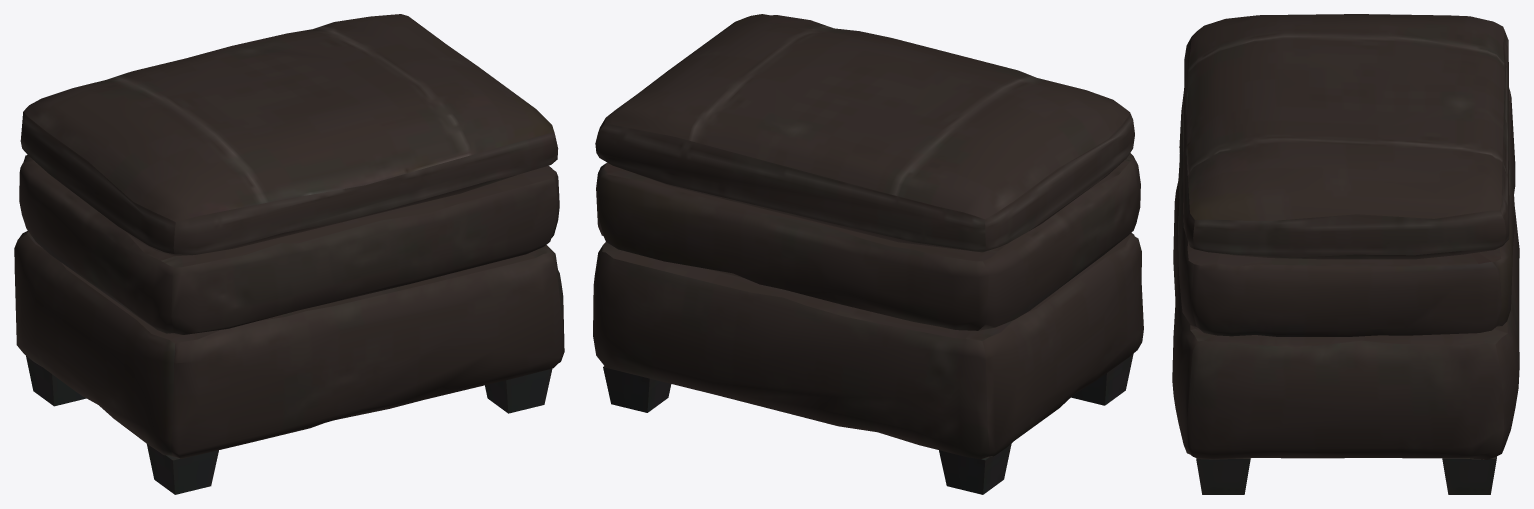
Rendered from Ottoman_01_2k.glb.
3 views of the same model, side by side, from view 1: azimuth 30°, elevation 25°; view 2: azimuth 150°, elevation 25°; view 3: azimuth 270°, elevation 25° (orthographic).
Visible parts, largest first — view 1: Ottoman_01; view 2: Ottoman_01; view 3: Ottoman_01.
Part boxes in pixels (<box>): Ottoman_01: <box>14,14,564,494</box>; Ottoman_01: <box>593,14,1143,494</box>; Ottoman_01: <box>1172,14,1519,494</box>.
Size of the model in its own units: 0.8829 by 0.6243 by 0.6211.
Materials: 1 (1 with a texture image).
